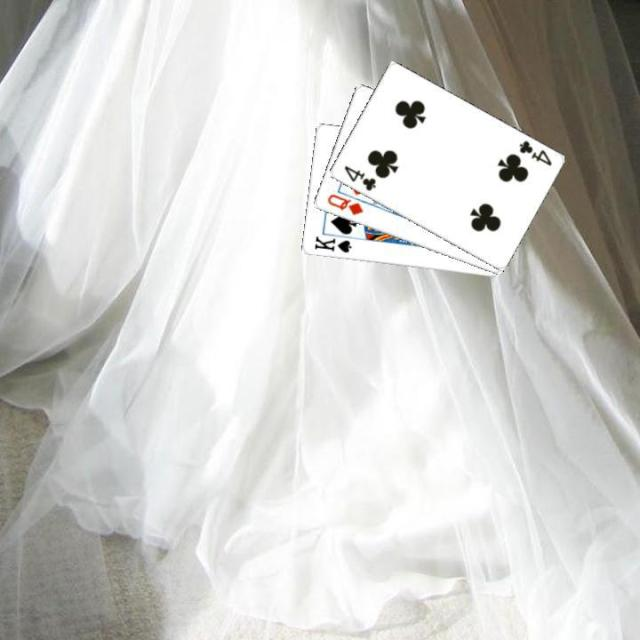4C: (340, 162, 378, 193), (515, 137, 553, 168)
KS: (310, 233, 353, 255)
QD: (322, 190, 364, 217)
